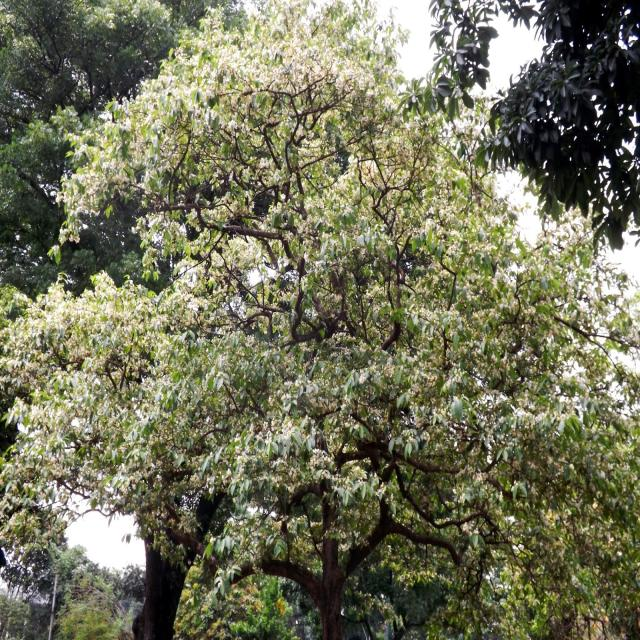Kutaja: (65, 53, 634, 640)
